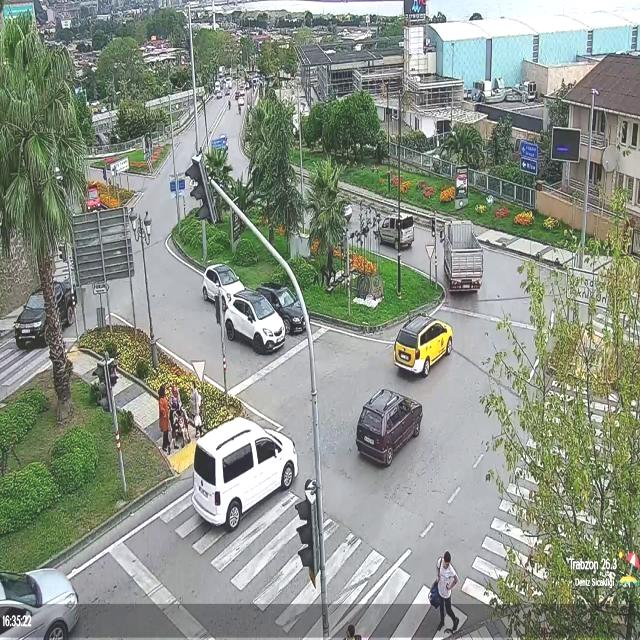Car: (352, 388, 424, 467), (225, 290, 287, 352), (392, 316, 454, 374), (203, 264, 245, 304), (376, 212, 416, 249)
Truck: (441, 215, 484, 293)
Van: (192, 418, 297, 535)
